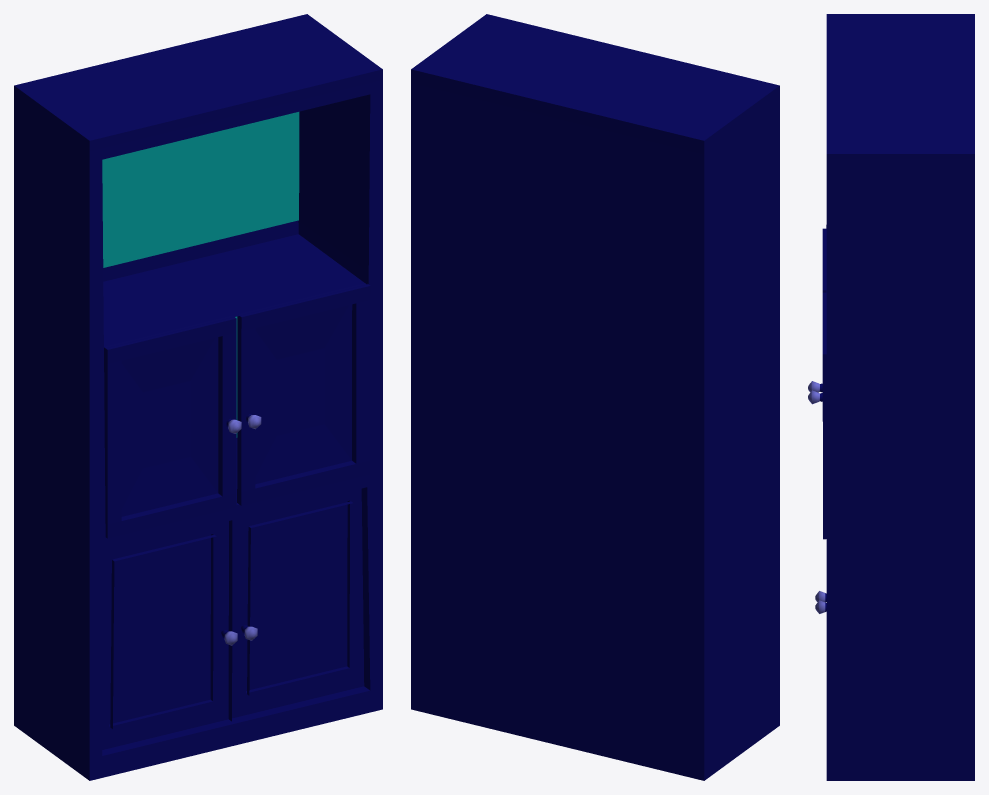
File: file-cabinent.dae
3 views of the same model, side by side, from view 1: azimuth 30°, elevation 25°; view 2: azimuth 150°, elevation 25°; view 3: azimuth 270°, elevation 25° (orthographic). The views are drawn at different scales.
Parts seen in each view (by area): view 1: FIle Cabinent; view 2: FIle Cabinent; view 3: FIle Cabinent.
Part boxes in pixels (bbox=[...]): FIle Cabinent: bbox=[14, 14, 382, 780]; FIle Cabinent: bbox=[411, 14, 779, 780]; FIle Cabinent: bbox=[808, 14, 974, 780].
Bounding box in the file's own units: 6.98 × 3.51 × 14.56.
Materials: 1 (1 with a texture image).
